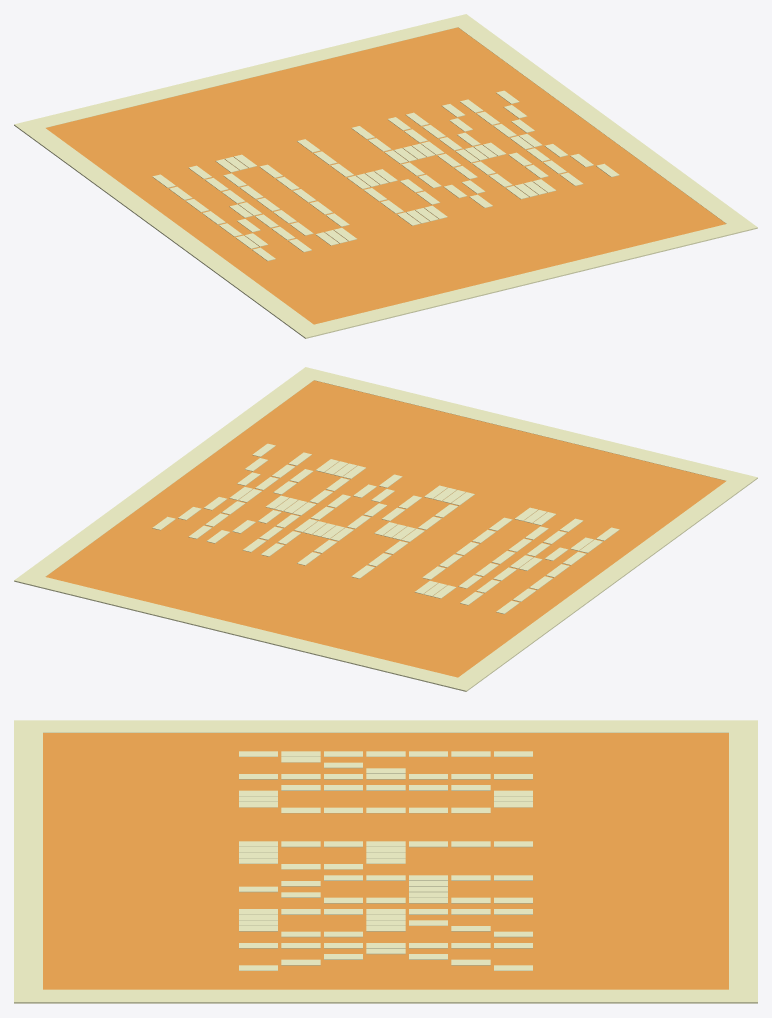
The model's file is marking_no_parking_box_red.glb.
3 renders of one model, top to bottom at view 1: azimuth 30°, elevation 25°; view 2: azimuth 150°, elevation 25°; view 3: azimuth 270°, elevation 25°, orthographic. The views are drawn at different scales.
Parts seen in each view (by area): view 1: no_parking_box_fill, no_parking_box_bottom, no_parking_box_left, no_parking_box_top, no_parking_box_right; view 2: no_parking_box_fill, no_parking_box_top, no_parking_box_left, no_parking_box_bottom, no_parking_box_right; view 3: no_parking_box_fill, no_parking_box_right, no_parking_box_left, no_parking_box_top, no_parking_box_bottom.
Part boxes in pixels (bbox=[...]): no_parking_box_fill: bbox=[46, 27, 725, 324]; no_parking_box_bottom: bbox=[294, 219, 757, 338]; no_parking_box_left: bbox=[25, 128, 313, 330]; no_parking_box_top: bbox=[14, 14, 477, 133]; no_parking_box_right: bbox=[458, 22, 745, 223]; no_parking_box_fill: bbox=[46, 380, 725, 677]; no_parking_box_top: bbox=[14, 572, 477, 691]; no_parking_box_left: bbox=[458, 481, 746, 683]; no_parking_box_bottom: bbox=[294, 367, 757, 486]; no_parking_box_right: bbox=[26, 375, 313, 576]; no_parking_box_fill: bbox=[43, 733, 728, 989]; no_parking_box_right: bbox=[43, 989, 728, 1003]; no_parking_box_left: bbox=[43, 720, 728, 732]; no_parking_box_top: bbox=[729, 720, 757, 1003]; no_parking_box_bottom: bbox=[14, 720, 42, 1003].
Bounding box in the file's own units: 2.06 × 0.006 × 2.3.
